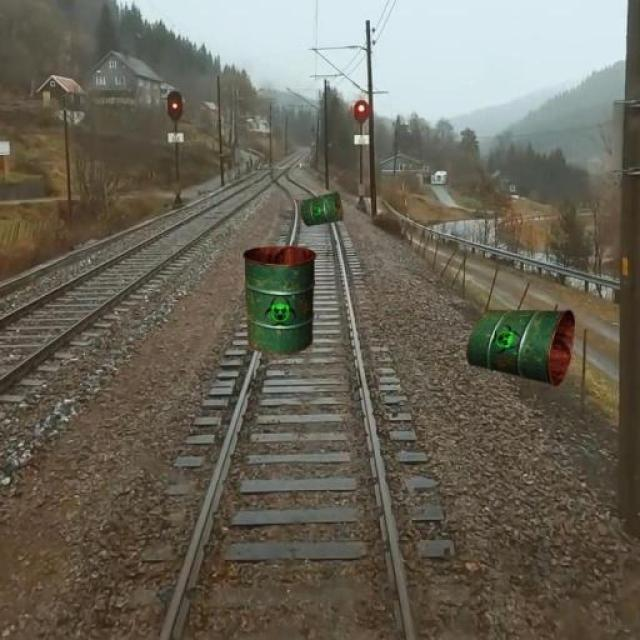Other_objects: (232, 241, 327, 354), (463, 298, 588, 382), (292, 187, 346, 228)
